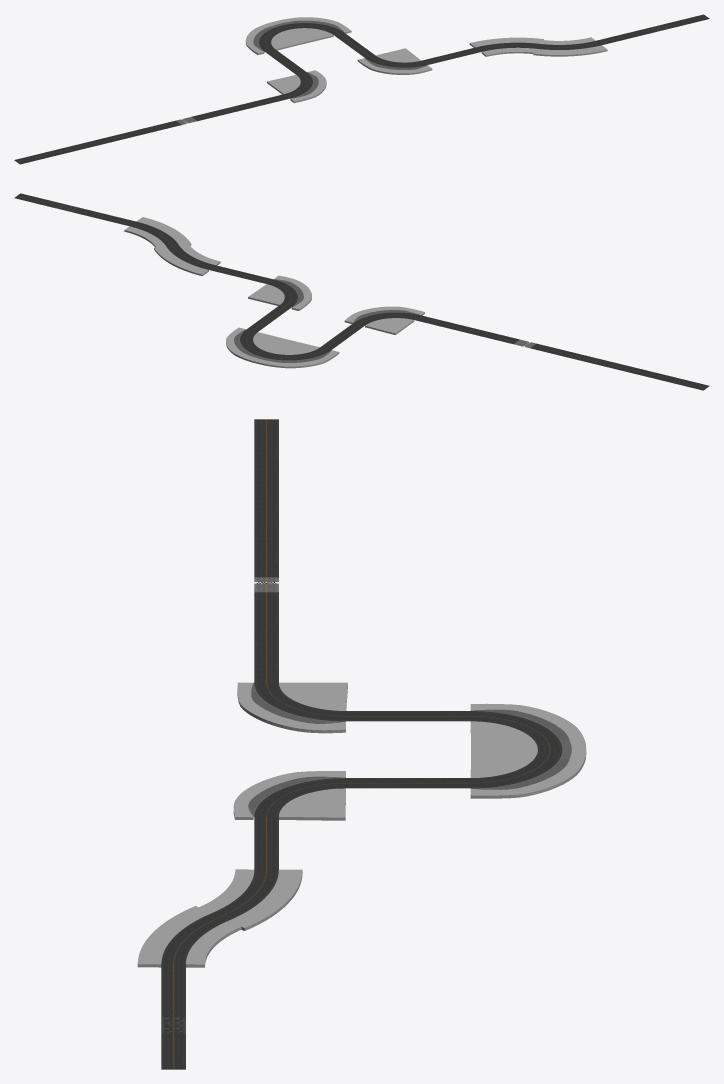
File: level_1.fbx
3 views of the same model, one above another, from view 1: azimuth 30°, elevation 25°; view 2: azimuth 150°, elevation 25°; view 3: azimuth 270°, elevation 25° (orthographic). The views are drawn at different scales.
Visible parts, largest first — view 1: road_turn_roadsideR, polySurface374, polySurface382, road_turn1_3, road_turn1_5, polySurface384, polySurface376, road_turn1_2_backsideL1, road_turn1_2_backsideR2, road_turn_roadsideR1, road_turn1_2_backsideR1, road_turn1_2_backsideL2 (+15 smaller); view 2: polySurface382, polySurface374, road_turn1_5, road_turn1_3, road_turn1_2_backsideR2, road_turn_roadsideR1, road_turn1_2_backsideR1, polySurface383, polySurface376, polySurface384, road_turn_roadsideR, road_line13 (+14 smaller); view 3: polySurface374, polySurface382, road_turn1_5, road_turn1_3, road_turn1_2_backsideR1, road_turn_roadsideR1, road_turn1_2_backsideR2, road_turn_roadsideR, polySurface378, polySurface376, polySurface384, road_turn1_2_backsideL2 (+15 smaller).
Part boxes in pixels (box(x1,y1,x2,y2)): road_turn_roadsideR: box(533, 45, 607, 56); polySurface374: box(279, 20, 344, 34); polySurface382: box(253, 24, 287, 51); road_turn1_3: box(365, 55, 427, 69); road_turn1_5: box(284, 72, 318, 98); polySurface384: box(271, 30, 305, 50); polySurface376: box(288, 28, 333, 43); road_turn1_2_backsideL1: box(357, 58, 432, 74); road_turn1_2_backsideR2: box(267, 75, 300, 94); road_turn_roadsideR1: box(469, 37, 543, 47); road_turn1_2_backsideR1: box(376, 48, 420, 62); road_turn1_2_backsideL2: box(290, 70, 326, 103); polySurface382: box(262, 347, 331, 362); polySurface374: box(234, 329, 270, 359); road_turn1_5: box(353, 310, 420, 325); road_turn1_3: box(267, 279, 303, 307); road_turn1_2_backsideR2: box(365, 318, 414, 334); road_turn_roadsideR1: box(154, 246, 208, 276); road_turn1_2_backsideR1: box(248, 284, 284, 305); polySurface383: box(258, 350, 339, 368); polySurface376: box(253, 332, 289, 352); polySurface384: box(271, 340, 319, 354); road_turn_roadsideR: box(136, 217, 191, 245); road_line13: box(646, 372, 709, 390); polySurface374: box(470, 749, 571, 789); polySurface382: box(470, 709, 571, 749); road_turn1_5: box(251, 682, 345, 723); road_turn1_3: box(248, 776, 345, 816); road_turn1_2_backsideR1: box(279, 788, 345, 820); road_turn_roadsideR1: box(229, 869, 302, 930); road_turn1_2_backsideR2: box(279, 682, 347, 710); road_turn_roadsideR: box(137, 906, 210, 967); polySurface378: box(470, 749, 586, 798); polySurface376: box(470, 749, 537, 777); polySurface384: box(470, 721, 537, 750); road_turn1_2_backsideL2: box(237, 682, 345, 733).
Bounding box in the file's own units: 123932 × 275 × 36108.
